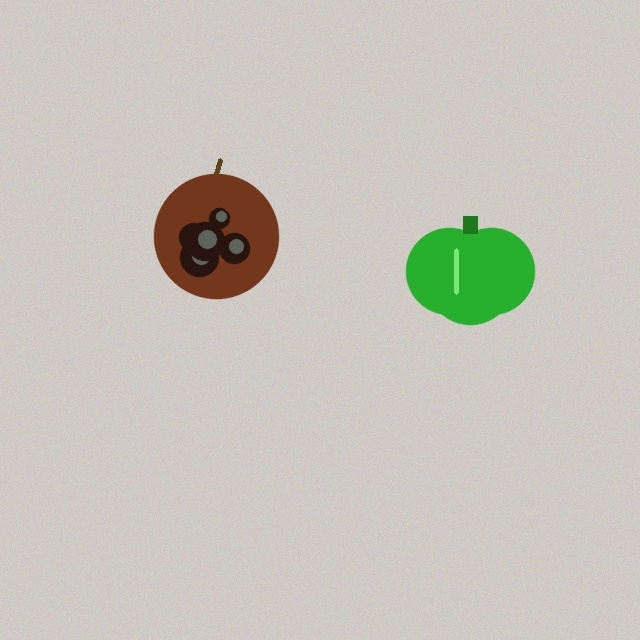Fresh bell pepper: (406, 216, 534, 324)
Rotten apple: (154, 160, 278, 298)
